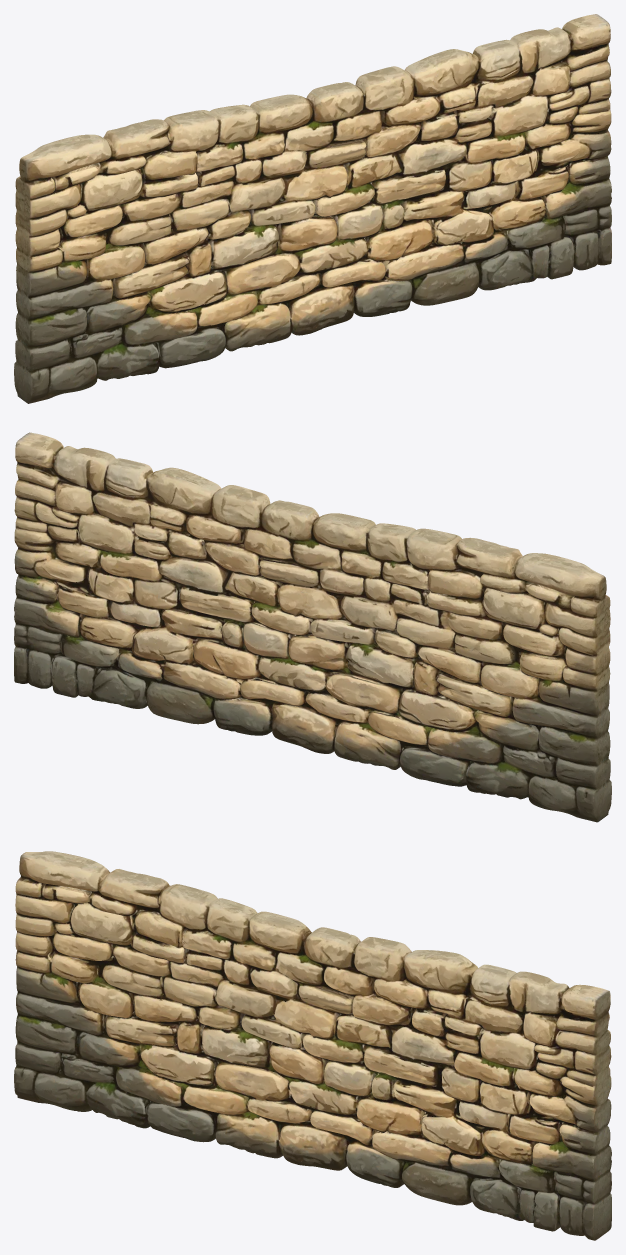
The model's file is dry-stone-wall.glb.
3 renders of one model, top to bottom at view 1: azimuth 30°, elevation 25°; view 2: azimuth 150°, elevation 25°; view 3: azimuth 330°, elevation 25°, orthographic.
Bounding box in the file's own units: 1.9 × 0.7708 × 0.1133.
1 material, 1 textured.
